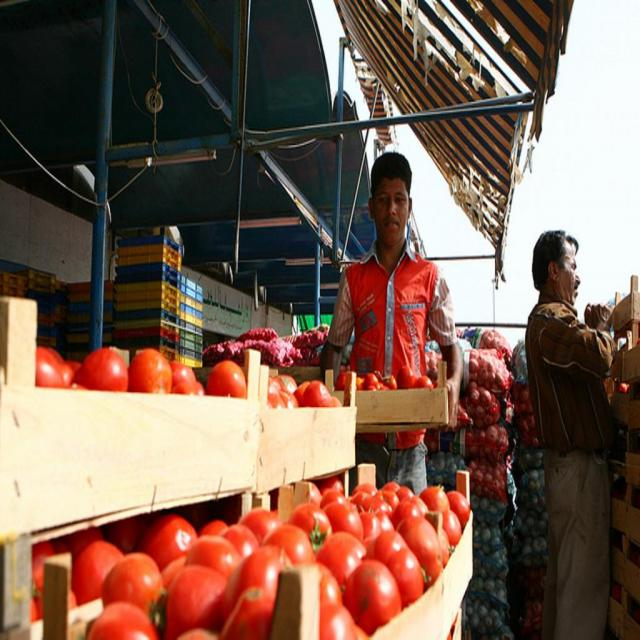nomask: (374, 176, 408, 245), (558, 239, 580, 304)
